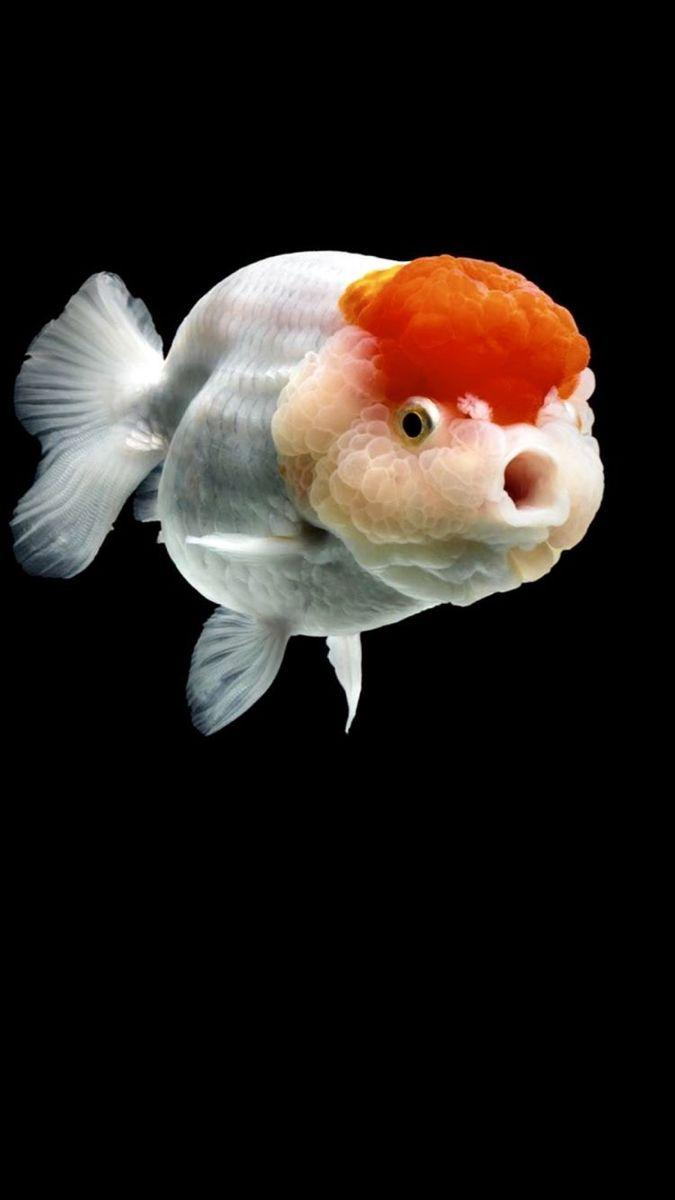goldfish: (33, 212, 633, 753)
